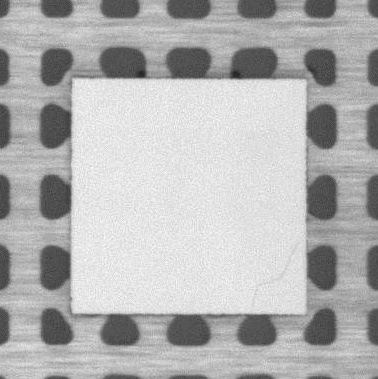DIE_CRACK: (250, 243, 298, 309)
